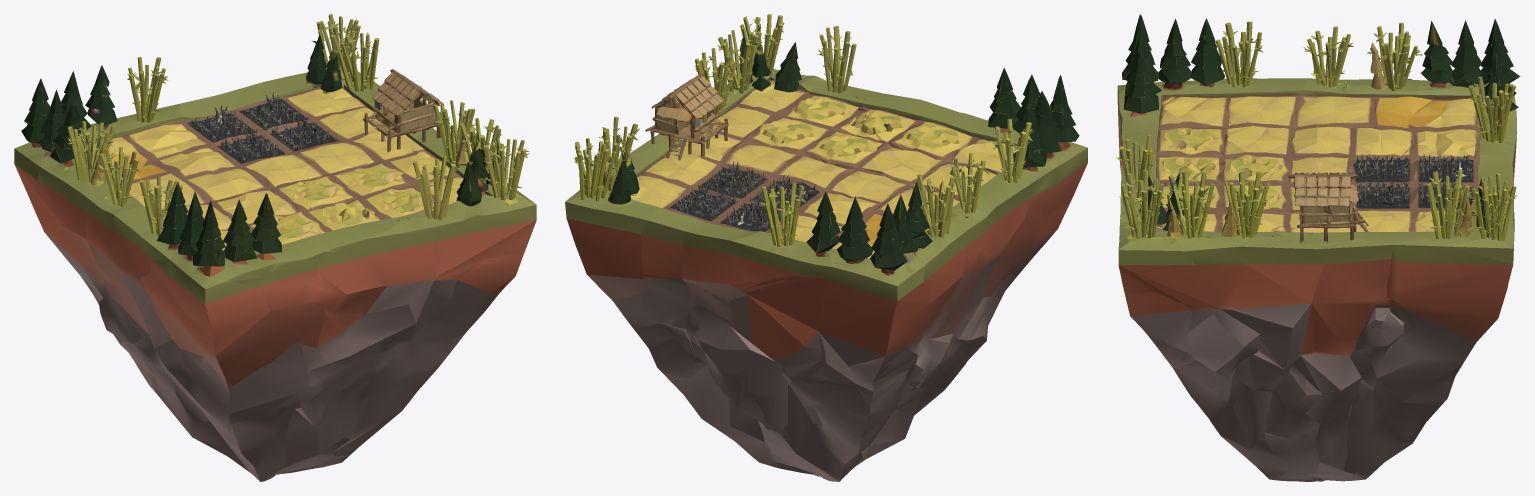
File: island.glb
3 renders of one model, left to right at view 1: azimuth 30°, elevation 25°; view 2: azimuth 150°, elevation 25°; view 3: azimuth 270°, elevation 25°, orthographic. The views are drawn at different scales.
Size of the model in its own units: 1.59 by 1.7 by 1.6.
1 material, 1 textured.
